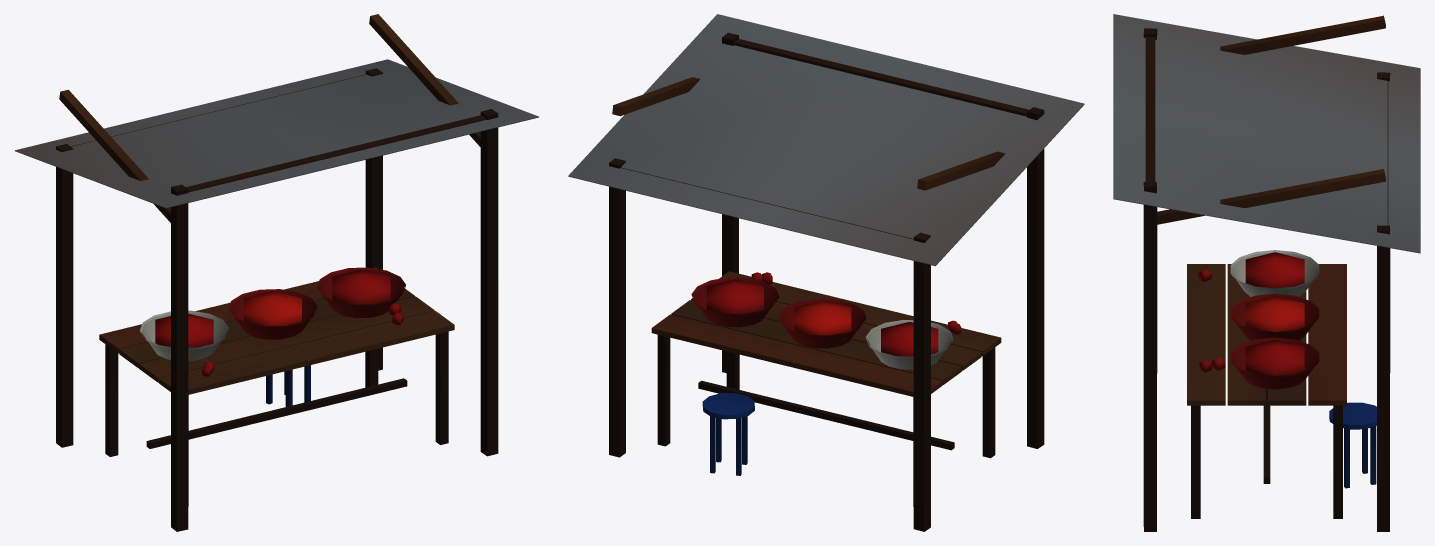
File: mk_stall_zinc_lod1.glb
3 renders of one model, left to right at view 1: azimuth 30°, elevation 25°; view 2: azimuth 150°, elevation 25°; view 3: azimuth 270°, elevation 25°, orthographic. The views are drawn at different scales.
Parts seen in each view (by area): view 1: mk_stall_zinc_lod1; view 2: mk_stall_zinc_lod1; view 3: mk_stall_zinc_lod1.
Boxes of the visible parts, <box> form: mk_stall_zinc_lod1: <box>15,14,539,531</box>; mk_stall_zinc_lod1: <box>568,14,1084,531</box>; mk_stall_zinc_lod1: <box>1113,14,1420,531</box>.
Size of the model in its own units: 2.7 by 2.44 by 1.9.
